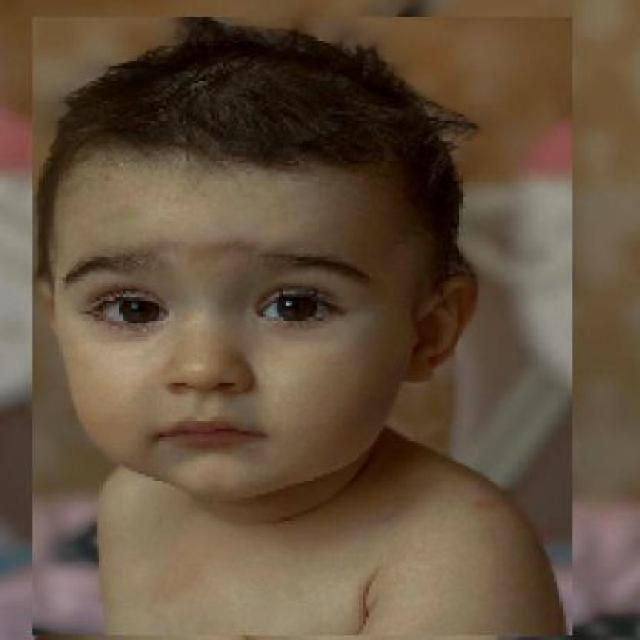child: (31, 17, 572, 637)
